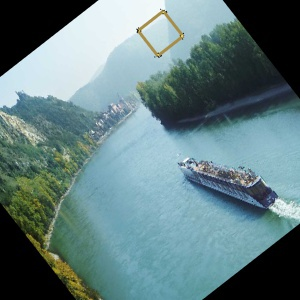square: (136, 9, 187, 58)
